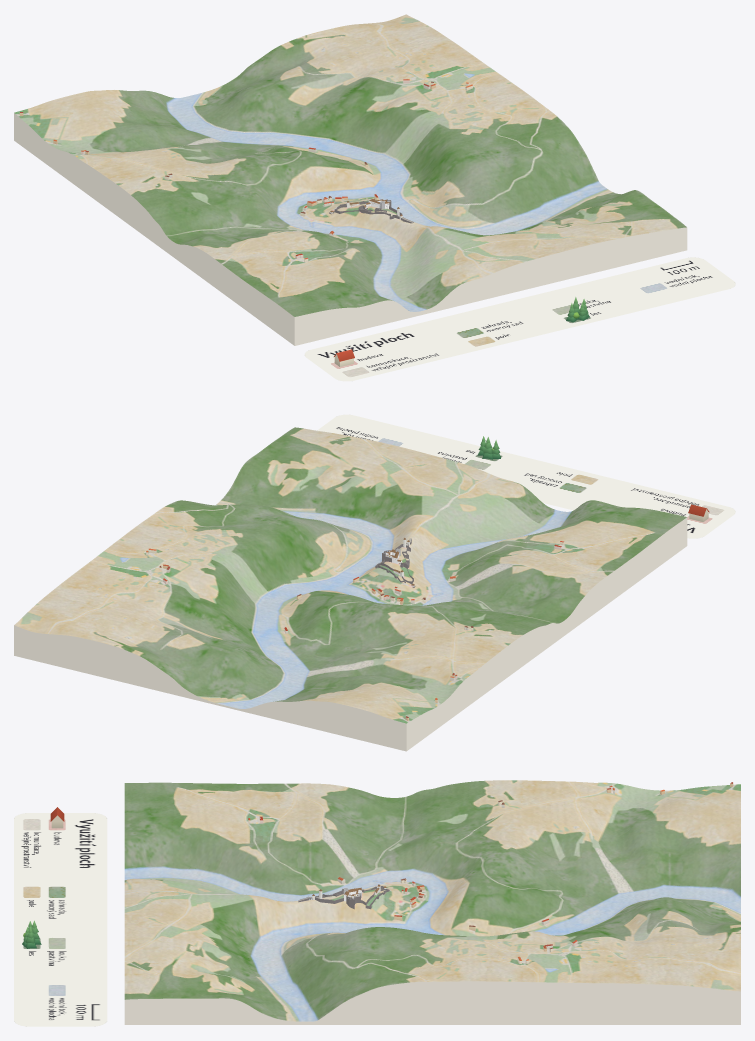
The model's file is Zvikov_base_CO.glb.
3 renders of one model, top to bottom at view 1: azimuth 30°, elevation 25°; view 2: azimuth 150°, elevation 25°; view 3: azimuth 270°, elevation 25°, orthographic. The views are drawn at different scales.
Visible parts, largest first — view 1: DMR_1953, legenda_panel, Node0, Budovy_vyber_—_co_final_all_dissolve_budovy, legenda_objekty; view 2: DMR_1953, legenda_panel, Node0, Budovy_vyber_—_co_final_all_dissolve_budovy, legenda_objekty; view 3: DMR_1953, legenda_panel, Node0, Budovy_vyber_—_co_final_all_dissolve_budovy, legenda_objekty.
Boxes of the visible parts, left/top/right/bottom form: DMR_1953: left=14, top=14, right=687, bottom=345; legenda_panel: left=304, top=257, right=735, bottom=381; Node0: left=329, top=198, right=413, bottom=223; Budovy_vyber_—_co_final_all_dissolve_budovy: left=19, top=79, right=472, bottom=261; legenda_objekty: left=334, top=297, right=589, bottom=366; DMR_1953: left=14, top=427, right=687, bottom=751; legenda_panel: left=317, top=414, right=735, bottom=538; Node0: left=375, top=538, right=415, bottom=587; Budovy_vyber_—_co_final_all_dissolve_budovy: left=146, top=541, right=564, bottom=720; legenda_objekty: left=477, top=436, right=709, bottom=521; DMR_1953: left=124, top=780, right=740, bottom=1024; legenda_panel: left=14, top=813, right=107, bottom=1026; Node0: left=298, top=884, right=389, bottom=909; Budovy_vyber_—_co_final_all_dissolve_budovy: left=248, top=782, right=733, bottom=963; legenda_objekty: left=22, top=807, right=64, bottom=948.
Size of the model in its own units: 1490 by 151 by 2141.
4 materials, 2 textured.
